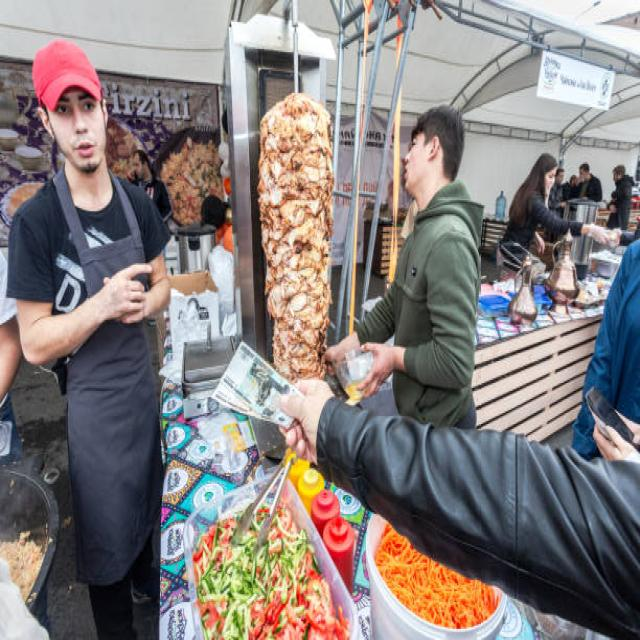Emperan: (115, 11, 537, 640)
